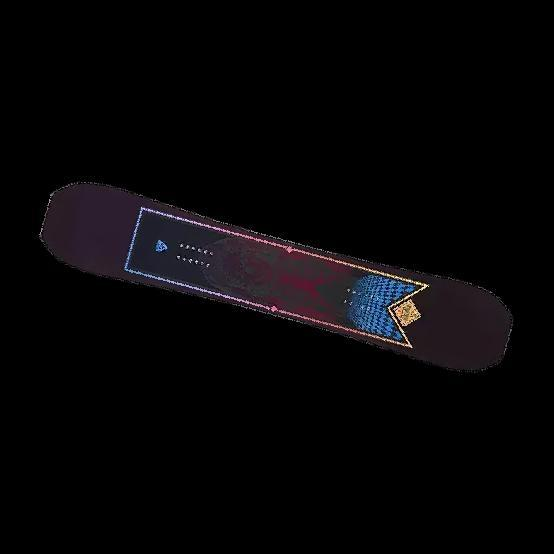Snowboard: (39, 171, 517, 400)
